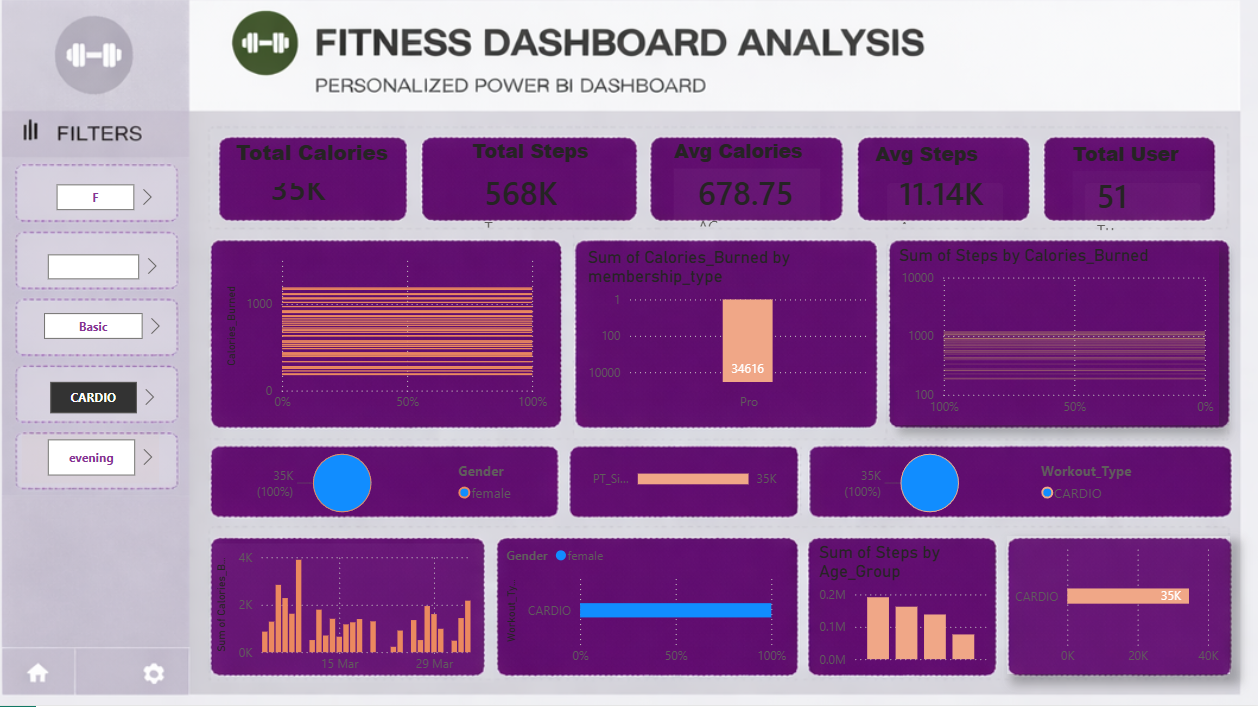

What the dashboard file says about the page in this screenshot:
{"tool":"powerbi","page":{"name":"Page 1","canvas":[1280,720],"ordinal":0},"visuals":[{"type":"pieChart","fields":{"Category":["Fitness_Datal.Gender"],"Y":["Sum(Fitness_Datal.Calories_Burned)"]},"box":[237.8,454.4,307.8,84.4],"z":0},{"type":"barChart","fields":{"Y":["Sum(Fitness_Datal.Calories_Burned)"],"Category":["Fitness_Datal.Workout_Type"]},"box":[1022.5,550,224.2,138.3],"z":1000},{"type":"columnChart","fields":{"Category":["Fitness_Datal.membership_type"],"Y":["Sum(Fitness_Datal.Calories_Burned)"]},"box":[598.3,260.8,290,173.3],"z":2000},{"type":"barChart","fields":{"Y":["Sum(Fitness_Datal.Calories_Burned)"],"Category":["Fitness_Datal.Trainer_Name"]},"box":[585.6,454.4,222.2,68.9],"z":3000},{"type":"hundredPercentStackedBarChart","fields":{"Category":["Fitness_Datal.Calories_Burned"],"Y":["Sum(Fitness_Datal.Steps)"]},"box":[910,259.2,325,180],"z":4000},{"type":"hundredPercentStackedBarChart","fields":{"Y":["Sum(Fitness_Datal.Workout_Duration_Min)"],"Category":["Fitness_Datal.Calories_Burned"]},"box":[237.5,260.8,330.8,173.3],"z":5000},{"type":"slicer","fields":{"Values":["Fitness_Datal.Gender"]},"box":[45.8,190.8,128.3,36.7],"z":6000},{"type":"slicer","fields":{"Values":["Fitness_Datal.Gym_Time"]},"box":[37.5,446.7,137.5,50],"z":7000},{"type":"slicer","fields":{"Values":["Fitness_Datal.Trainer_Name"]},"box":[37.5,260.8,141.7,39.2],"z":8000},{"type":"slicer","fields":{"Values":["Fitness_Datal.Workout_Type"]},"box":[40,389.2,136.7,45],"z":9000},{"type":"slicer","fields":{"Values":["Fitness_Datal.membership_type"]},"box":[33.8,320,148.8,40],"z":10000},{"type":"cardVisual","title":"         Total Calories","fields":{"Data":["Fitness_Datal.Total_Calories"]},"box":[238,151,181,93],"z":11000},{"type":"cardVisual","title":"Total Steps","fields":{"Data":["Fitness_Datal.Total_Steps"]},"box":[471,151,150,108],"z":12000},{"type":"cardVisual","title":"Avg Calories","fields":{"Data":["Fitness_Datal.AC"]},"box":[685.6,151.1,156.7,106.7],"z":13000},{"type":"cardVisual","title":"Avg Steps","fields":{"Data":["Fitness_Datal.As"]},"box":[886.7,153.3,150,102.2],"z":14000},{"type":"cardVisual","title":"Total User","fields":{"Data":["Fitness_Datal.Tu"]},"box":[1083.3,153.3,150,107.8],"z":15000},{"type":"pieChart","fields":{"Category":["Fitness_Datal.Workout_Type"],"Y":["Sum(Fitness_Datal.Calories_Burned)"]},"box":[830,454.4,338.9,84.4],"z":16000},{"type":"columnChart","fields":{"Y":["Sum(Fitness_Datal.Steps)"],"Category":["Fitness_Datal.Age_Group"]},"box":[830,556.7,177.8,131.1],"z":17000},{"type":"lineStackedColumnComboChart","fields":{"Y":["Sum(Fitness_Datal.Calories_Burned)"],"Category":["Fitness_Datal.Date"]},"box":[227.8,557.8,282.2,138.9],"z":18000},{"type":"hundredPercentStackedBarChart","fields":{"Category":["Fitness_Datal.Workout_Type"],"Y":["Sum(Fitness_Datal.Calories_Burned)"],"Series":["Fitness_Datal.Gender"]},"box":[517.8,550,290,137.8],"z":19000}]}

Visuals, with their boxes in screenshot pixels (x1, y1, x2, y2):
pieChart - Fitness_Datal.Gender x Sum(Fitness_Datal.Calories_Burned): {"left": 213, "top": 437, "right": 522, "bottom": 522}
barChart - Sum(Fitness_Datal.Calories_Burned) x Fitness_Datal.Workout_Type: {"left": 1001, "top": 533, "right": 1227, "bottom": 672}
columnChart - Fitness_Datal.membership_type x Sum(Fitness_Datal.Calories_Burned): {"left": 575, "top": 242, "right": 866, "bottom": 417}
barChart - Sum(Fitness_Datal.Calories_Burned) x Fitness_Datal.Trainer_Name: {"left": 562, "top": 437, "right": 786, "bottom": 506}
hundredPercentStackedBarChart - Fitness_Datal.Calories_Burned x Sum(Fitness_Datal.Steps): {"left": 888, "top": 241, "right": 1215, "bottom": 422}
hundredPercentStackedBarChart - Sum(Fitness_Datal.Workout_Duration_Min) x Fitness_Datal.Calories_Burned: {"left": 212, "top": 242, "right": 545, "bottom": 417}
slicer - Fitness_Datal.Gender: {"left": 20, "top": 172, "right": 149, "bottom": 209}
slicer - Fitness_Datal.Gym_Time: {"left": 11, "top": 429, "right": 150, "bottom": 479}
slicer - Fitness_Datal.Trainer_Name: {"left": 11, "top": 242, "right": 154, "bottom": 282}
slicer - Fitness_Datal.Workout_Type: {"left": 14, "top": 371, "right": 151, "bottom": 417}
slicer - Fitness_Datal.membership_type: {"left": 8, "top": 302, "right": 157, "bottom": 342}
"         Total Calories" cardVisual: {"left": 213, "top": 132, "right": 395, "bottom": 226}
"Total Steps" cardVisual: {"left": 447, "top": 132, "right": 598, "bottom": 241}
"Avg Calories" cardVisual: {"left": 663, "top": 132, "right": 820, "bottom": 239}
"Avg Steps" cardVisual: {"left": 865, "top": 134, "right": 1016, "bottom": 237}
"Total User" cardVisual: {"left": 1062, "top": 134, "right": 1213, "bottom": 243}
pieChart - Fitness_Datal.Workout_Type x Sum(Fitness_Datal.Calories_Burned): {"left": 808, "top": 437, "right": 1148, "bottom": 522}
columnChart - Sum(Fitness_Datal.Steps) x Fitness_Datal.Age_Group: {"left": 808, "top": 540, "right": 986, "bottom": 671}
lineStackedColumnComboChart - Sum(Fitness_Datal.Calories_Burned) x Fitness_Datal.Date: {"left": 203, "top": 541, "right": 486, "bottom": 680}
hundredPercentStackedBarChart - Fitness_Datal.Workout_Type x Sum(Fitness_Datal.Calories_Burned): {"left": 494, "top": 533, "right": 786, "bottom": 671}
